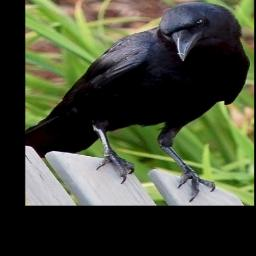Crow: (26, 3, 250, 203)
